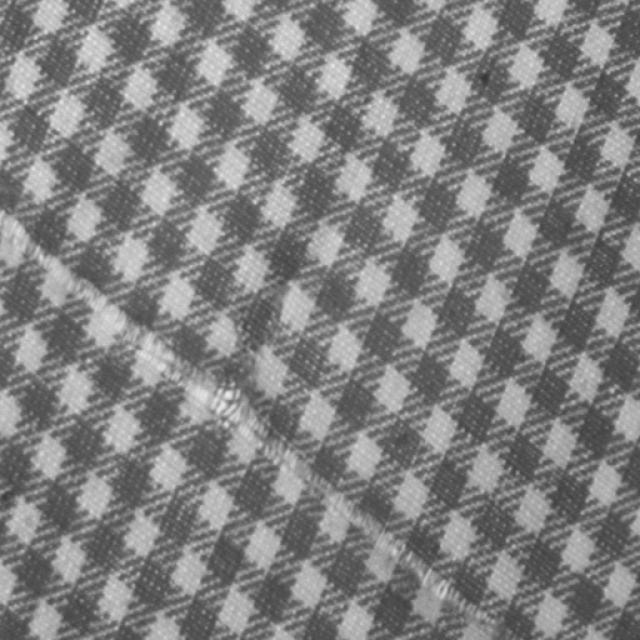Thread-Defect: (0, 225, 506, 634)
